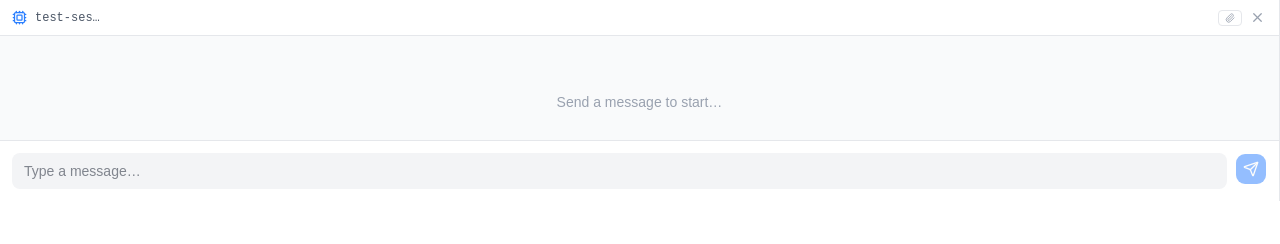
it: ChatWindow › ignores invalid JSON in SSE stream and continues parsing
# Type a message
In the field with placeholder "Type a message…": [620, 171] box [12, 153, 1227, 189], type "Hello"
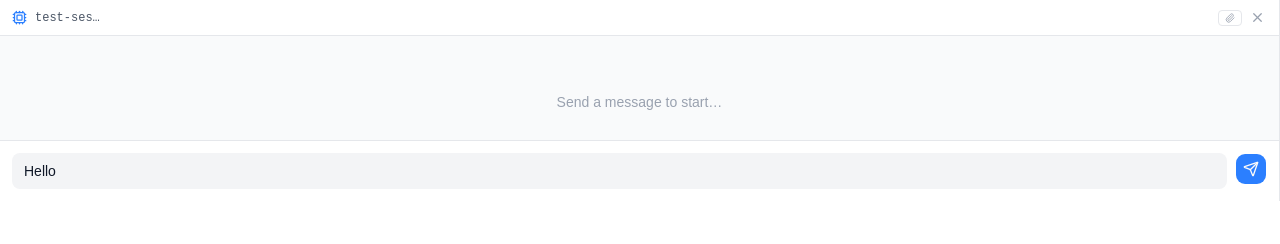
# Submit (find the send button by data-slot or form submission)
Submit the form with placeholder "Type a message…", box [12, 153, 1267, 189]
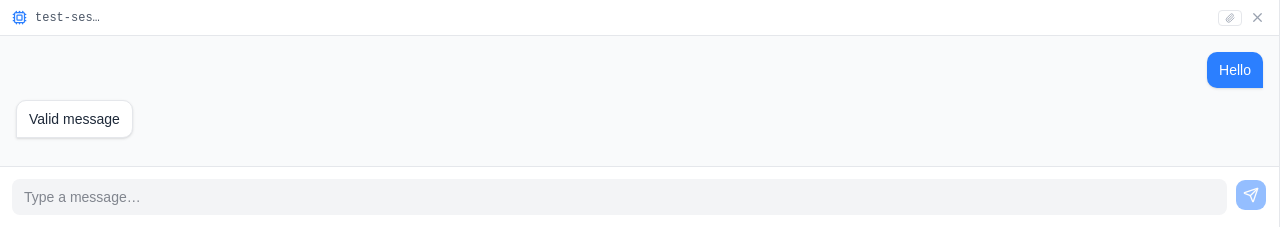
Result: the text "Valid message" is shown at [16, 100, 133, 138]
